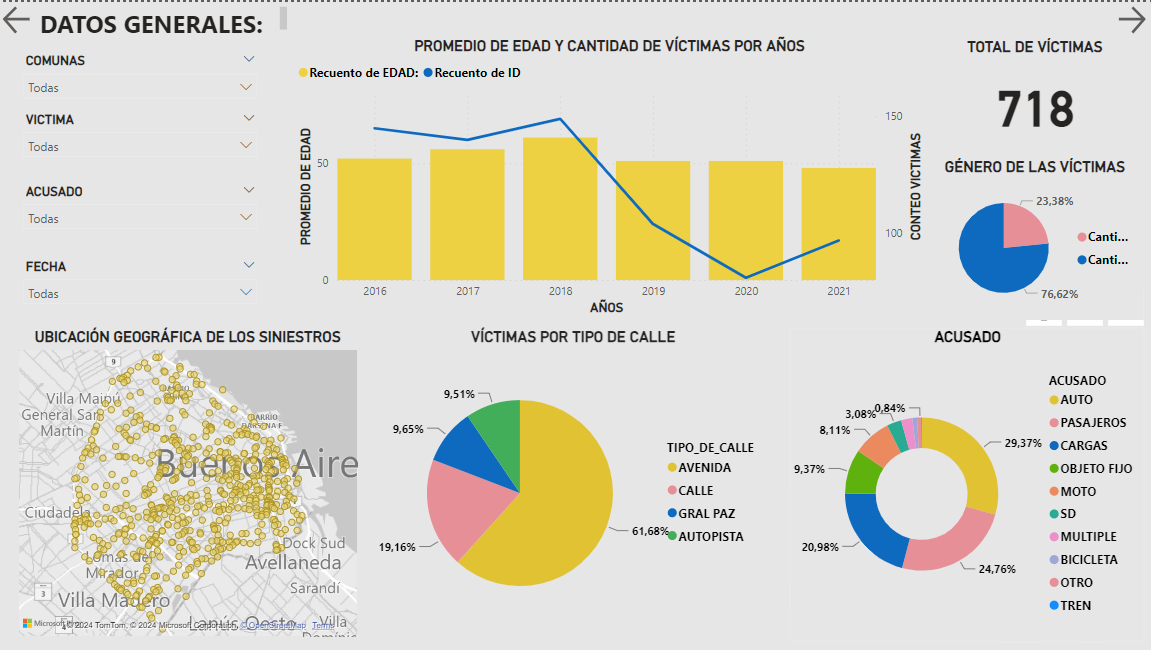

What the dashboard file says about the page in this screenshot:
{"tool":"powerbi","page":{"name":"GENERAL","canvas":[1280,720],"ordinal":0},"visuals":[{"type":"slicer","fields":{"Values":["DataSetFinal.COMUNAS:"]},"box":[16.7,51.7,280,61.7],"z":0},{"type":"slicer","fields":{"Values":["DataSetFinal.VICTIMA_x"]},"box":[16,116,280,56],"z":1000},{"type":"slicer","fields":{"Values":["DataSetFinal.ACUSADO"]},"box":[16,196,280,66],"z":2000},{"type":"slicer","fields":{"Values":["DataSetFinal.FECHA_x.Variación.Jerarquía de fechas.Año"]},"box":[16,280,280,72],"z":3000},{"type":"map","title":"UBICACIÓN GEOGRÁFICA DE LOS SINIESTROS","fields":{"Y":["DataSetFinal.pos y"],"X":["DataSetFinal.pos x"]},"box":[16,362,386,348],"z":4000},{"type":"pieChart","title":"VÍCTIMAS POR TIPO DE CALLE","fields":{"Y":["CountNonNull(DataSetFinal.ID)"],"Category":["DataSetFinal.TIPO_DE_CALLE"]},"box":[410,362,456,348],"z":5000},{"type":"donutChart","title":"ACUSADO","fields":{"Y":["CountNonNull(DataSetFinal.ID)"],"Category":["DataSetFinal.ACUSADO"]},"box":[878,362,396,350],"z":6000},{"type":"pieChart","title":"GÉNERO DE LAS VÍCTIMAS","fields":{"Y":["DataSetFinal.Cantidad_Femeninas","DataSetFinal.Cantidad_Masculinos"]},"box":[1030,174,242,180],"z":7000},{"type":"card","title":"TOTAL DE VÍCTIMAS","fields":{"Values":["CountNonNull(DataSetFinal.ID)"]},"box":[1030,40,242,124],"z":8000},{"type":"lineStackedColumnComboChart","title":"PROMEDIO DE EDAD Y CANTIDAD DE VÍCTIMAS POR AÑOS","fields":{"Y":["Count(DataSetFinal.EDAD:)"],"Category":["DataSetFinal.FECHA_x.Variación.Jerarquía de fechas.Año"],"Y2":["CountNonNull(DataSetFinal.ID)"]},"box":[326.7,38.3,703.3,313.3],"z":9000},{"type":"textbox","box":[0,0,285,40],"z":10000}]}

Visuals, with their boxes in screenshot pixels (x1, y1, x2, y2), scaled from the page's 1280x720 canvas onto the 1151x650 screenshot:
slicer - DataSetFinal.COMUNAS:: (left=15, top=47, right=267, bottom=102)
slicer - DataSetFinal.VICTIMA_x: (left=14, top=105, right=266, bottom=155)
slicer - DataSetFinal.ACUSADO: (left=14, top=177, right=266, bottom=237)
slicer - DataSetFinal.FECHA_x.Variación.Jerarquía de fechas.Año: (left=14, top=253, right=266, bottom=318)
"UBICACIÓN GEOGRÁFICA DE LOS SINIESTROS" map: (left=14, top=327, right=361, bottom=641)
"VÍCTIMAS POR TIPO DE CALLE" pieChart: (left=369, top=327, right=779, bottom=641)
"ACUSADO" donutChart: (left=790, top=327, right=1146, bottom=643)
"GÉNERO DE LAS VÍCTIMAS" pieChart: (left=926, top=157, right=1144, bottom=320)
"TOTAL DE VÍCTIMAS" card: (left=926, top=36, right=1144, bottom=148)
"PROMEDIO DE EDAD Y CANTIDAD DE VÍCTIMAS POR AÑOS" lineStackedColumnComboChart: (left=294, top=35, right=926, bottom=317)
textbox: (left=0, top=0, right=256, bottom=36)
